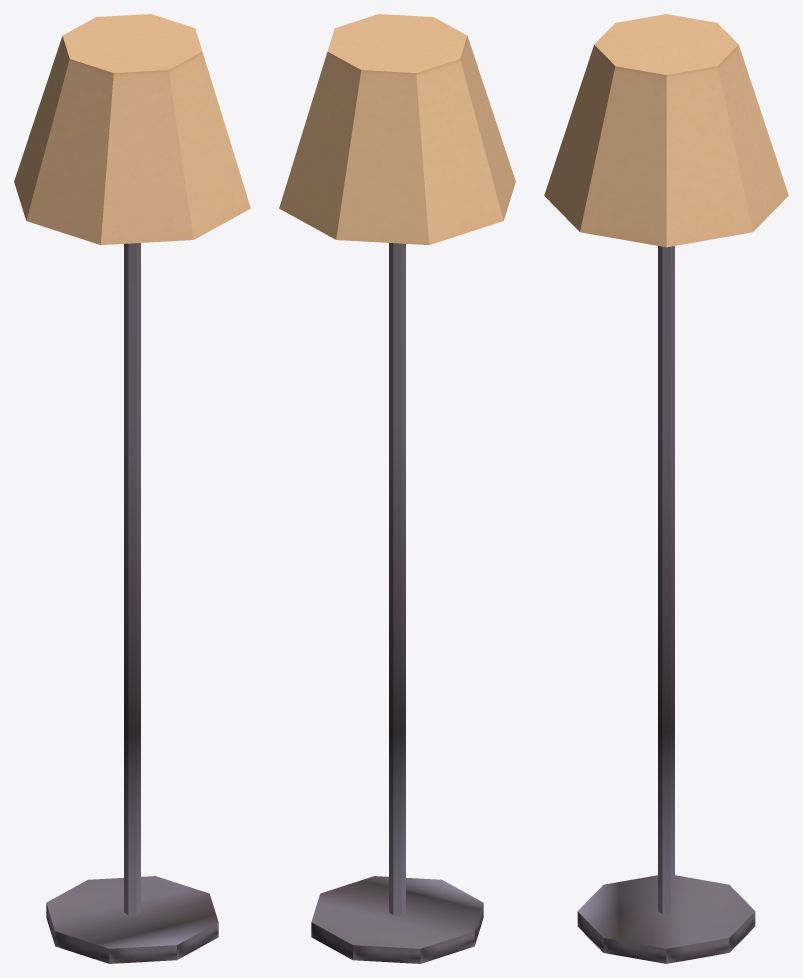
The model's file is Lamp_Floor.fbx.
3 renders of one model, left to right at view 1: azimuth 30°, elevation 25°; view 2: azimuth 150°, elevation 25°; view 3: azimuth 270°, elevation 25°, orthographic.
Visible parts, largest first — view 1: Lamp_Floor; view 2: Lamp_Floor; view 3: Lamp_Floor.
Part boxes in pixels (x1=…): Lamp_Floor: x1=14, y1=14, x2=250, y2=963; Lamp_Floor: x1=279, y1=14, x2=515, y2=963; Lamp_Floor: x1=544, y1=14, x2=788, y2=963.
Size of the model in its own units: 0.44 by 1.75 by 0.44.
